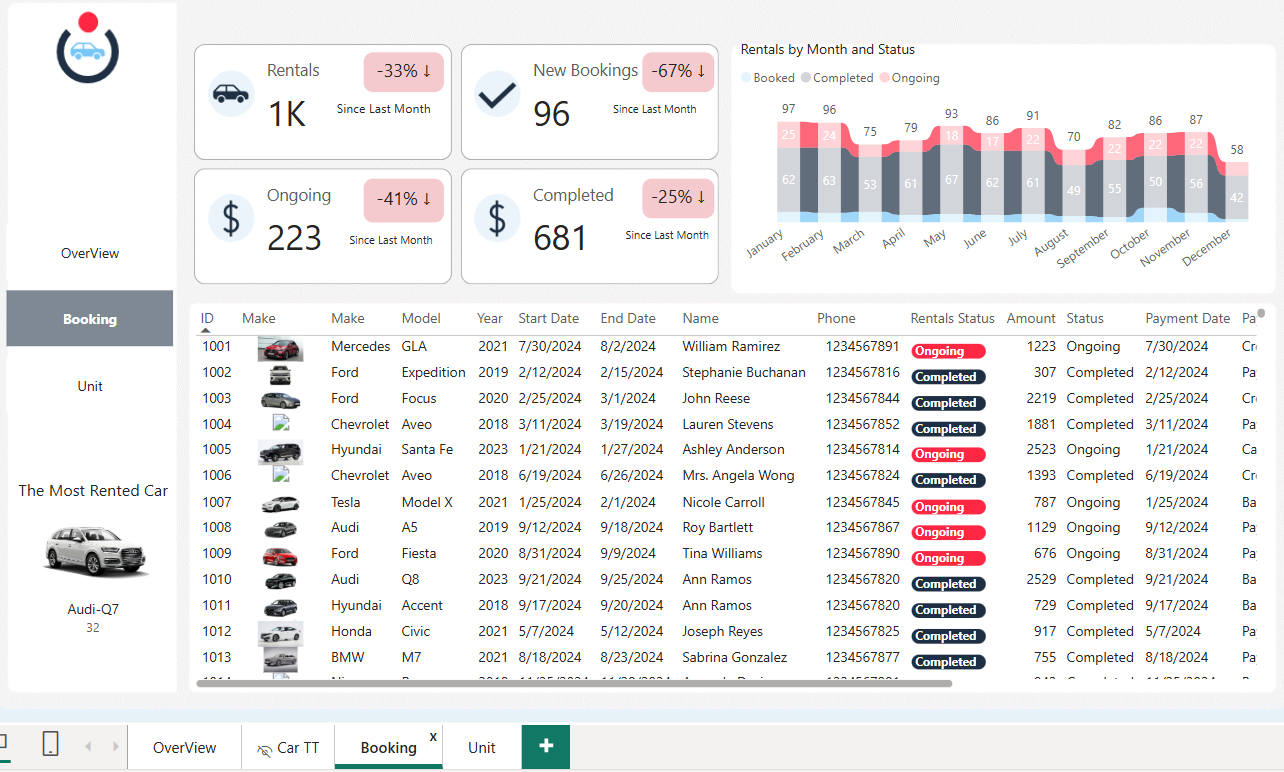

The page's visual inventory and layout, read from the dashboard file:
{"tool":"powerbi","page":{"name":"Booking","canvas":[1280,720],"ordinal":2},"visuals":[{"type":"cardVisual","fields":{"Data":["_Metrics.Rentals","_Metrics.New Bookings","_Metrics.Ongoing Bookings","_Metrics.Completed Bookings"]},"box":[203.1,57.6,517.3,242.9],"z":0},{"type":"card","fields":{"Values":["_Metrics.Rentals Growth Formatted"]},"box":[370.5,70,79.6,39.8],"z":2000},{"type":"textbox","box":[340.3,109.8,109.8,35.7],"z":3000},{"type":"card","fields":{"Values":["_Metrics.Ongoing Booking Growth Formatted"]},"box":[370.5,192.1,79.6,43.9],"z":4000},{"type":"card","fields":{"Values":["_Metrics.Completed Booking Growth Formatted"]},"box":[639.5,192.1,71.4,39.8],"z":5000},{"type":"card","fields":{"Values":["_Metrics.New Booking Growth Formatted"]},"box":[639.5,70,71.4,39.8],"z":6000},{"type":"textbox","box":[618.9,231.9,91.9,32.9],"z":7000},{"type":"textbox","box":[606.5,109.8,101.5,35.7],"z":8000},{"type":"textbox","box":[352.7,236,97.4,28.8],"z":9000},{"type":"columnChart","fields":{"Category":["Calendar.Month"],"Y":["_Metrics.Rentals"],"Series":["Rentals.Status"]},"box":[730,58,517,243],"z":10000},{"type":"tableEx","fields":{"Values":["Rentals.Rental_ID","Vehicles.img","Vehicles.Make","Vehicles.Model","Vehicles.Year","Rentals.Start_Date","Rentals.End_Date","Customers.Name","Customers.Phone","_Metrics.Rentals Status","Rentals.Total_Cost","Rentals.Status"]},"box":[203.1,312.9,1044.3,377.4],"z":11000},{"type":"advancedSlicerVisual","title":"The Most Rented Car","fields":{"Values":["Vehicles.Make_Model"]},"box":[32.9,483,155.1,207.2],"z":12000},{"type":"card","fields":{"Values":["_Metrics.Zero"]},"box":[30.2,483,161.9,207.2],"z":13000},{"type":"pageNavigator","box":[26.1,236,161.9,182.5],"z":14000}]}

Visuals, with their boxes on the page's 1280x720 design canvas (x1, y1, x2, y2). These are canvas units, not pixel positions in the 1284x772 screenshot, which may show the page scaled, cropped or inside an application window:
cardVisual - _Metrics.Rentals x _Metrics.New Bookings: region(203, 58, 720, 300)
card - _Metrics.Rentals Growth Formatted: region(370, 70, 450, 110)
textbox: region(340, 110, 450, 146)
card - _Metrics.Ongoing Booking Growth Formatted: region(370, 192, 450, 236)
card - _Metrics.Completed Booking Growth Formatted: region(640, 192, 711, 232)
card - _Metrics.New Booking Growth Formatted: region(640, 70, 711, 110)
textbox: region(619, 232, 711, 265)
textbox: region(606, 110, 708, 146)
textbox: region(353, 236, 450, 265)
columnChart - Calendar.Month x _Metrics.Rentals: region(730, 58, 1247, 301)
tableEx - Rentals.Rental_ID x Vehicles.img: region(203, 313, 1247, 690)
"The Most Rented Car" advancedSlicerVisual: region(33, 483, 188, 690)
card - _Metrics.Zero: region(30, 483, 192, 690)
pageNavigator: region(26, 236, 188, 418)
